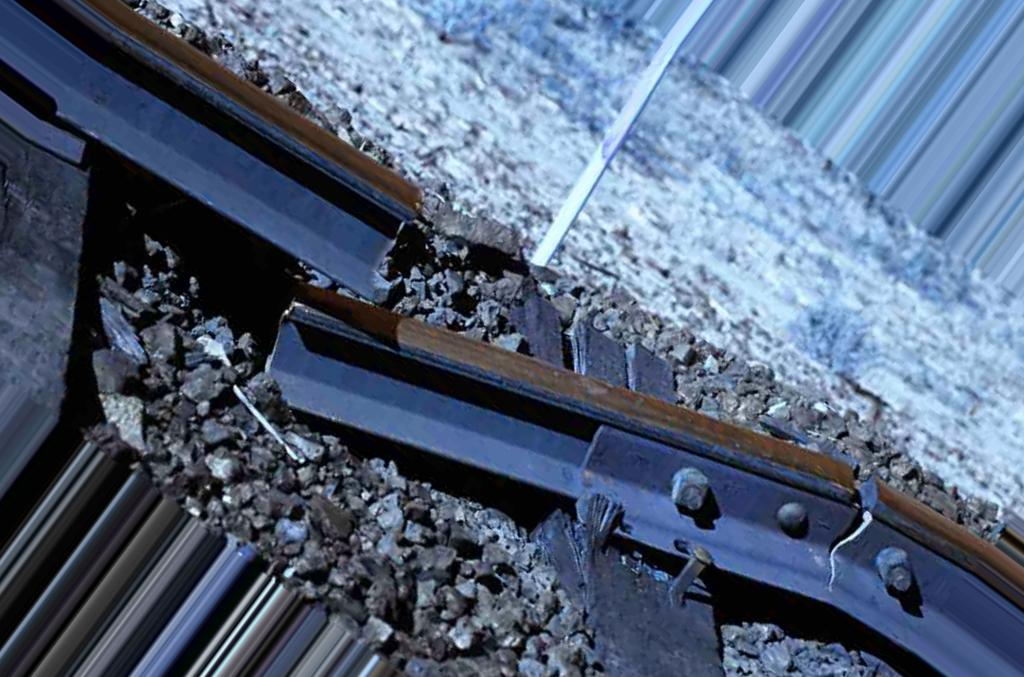tracks_fault: (188, 35, 918, 640), (226, 120, 461, 468), (770, 366, 910, 637)
